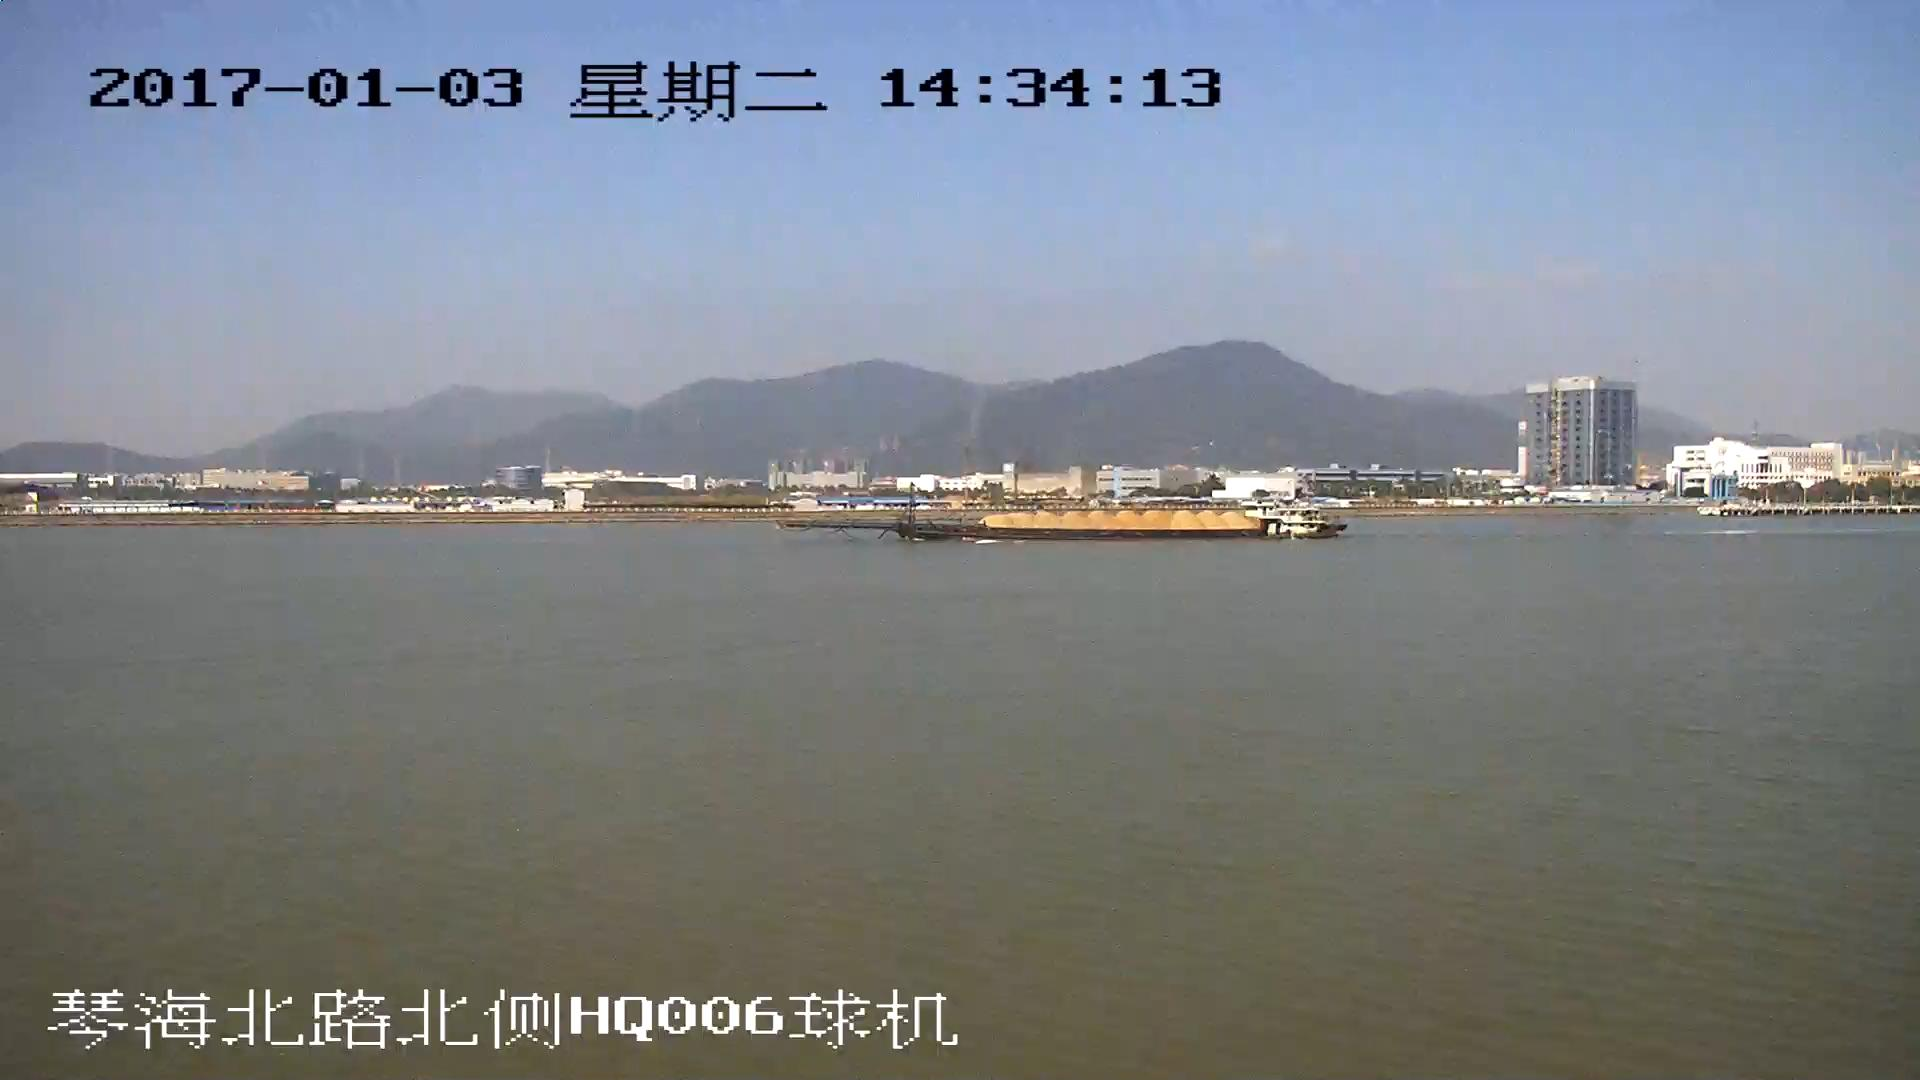ore carrier: (785, 492, 1342, 541)
